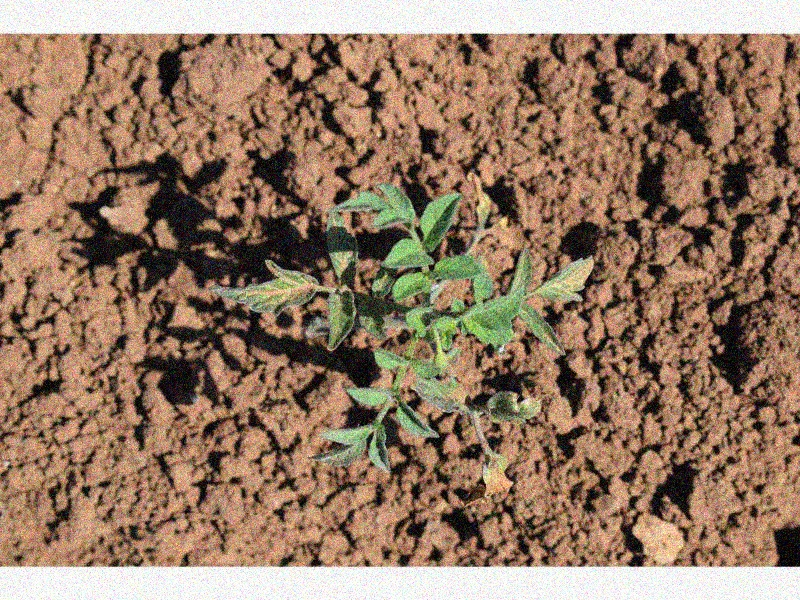tomato: (219, 174, 592, 485)
